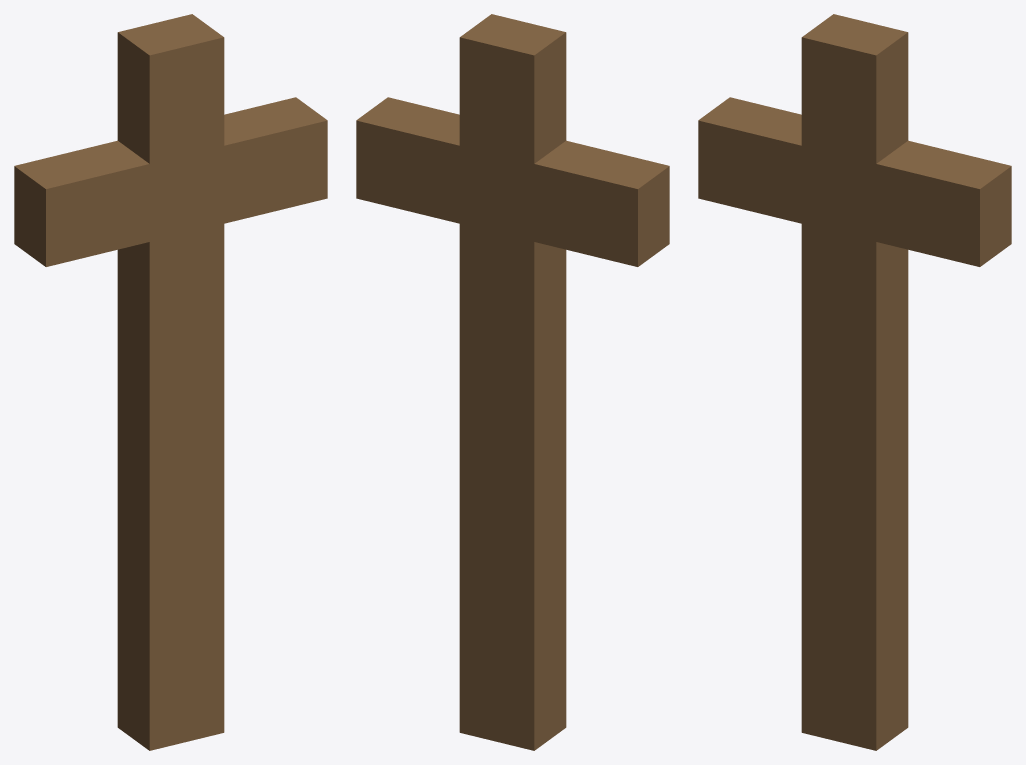
Rendered from cross.glb.
The picture shows the model from 3 angles, left to right: view 1: azimuth 30°, elevation 25°; view 2: azimuth 150°, elevation 25°; view 3: azimuth 330°, elevation 25°; orthographic projection.
Visible parts, largest first — view 1: crossWood; view 2: crossWood; view 3: crossWood.
Part boxes in pixels (x1,y1,x2,y2): crossWood: [14, 14, 327, 750]; crossWood: [356, 14, 669, 750]; crossWood: [698, 14, 1011, 750].
Bounding box in the file's own units: 0.4665 × 1.1 × 0.0912.
